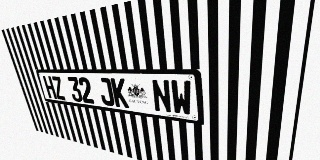2: (78, 77, 94, 104)
3: (67, 77, 83, 102)
H: (43, 76, 57, 99)
J: (97, 78, 115, 106)
K: (110, 78, 129, 108)
N: (151, 79, 172, 114)
W: (170, 80, 193, 116)
Z: (51, 76, 66, 100)
